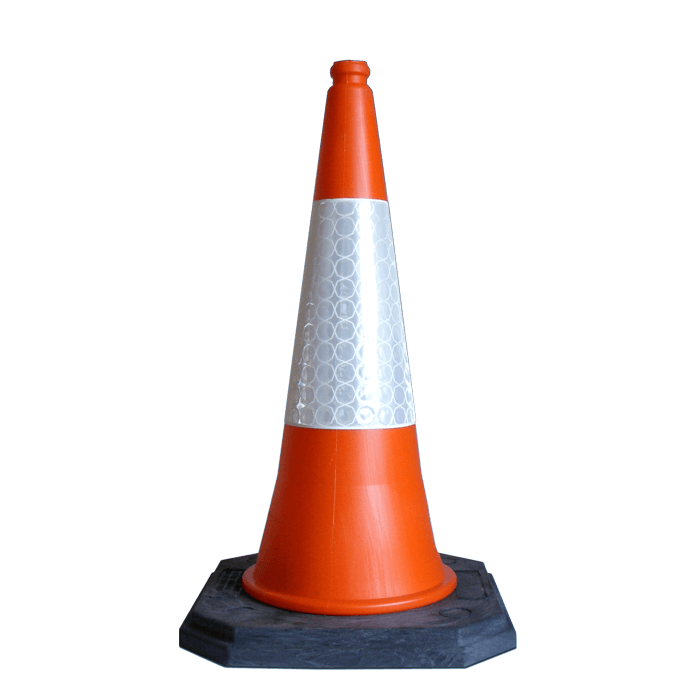Road_cone: (167, 43, 526, 672)
